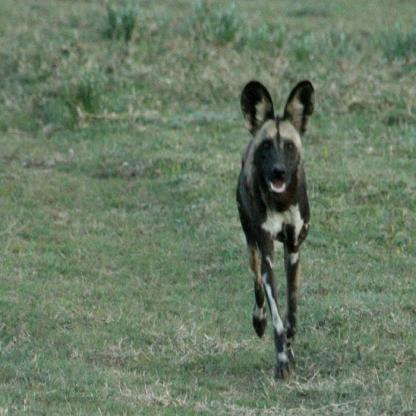African_hunting_dog: (233, 75, 316, 382)
